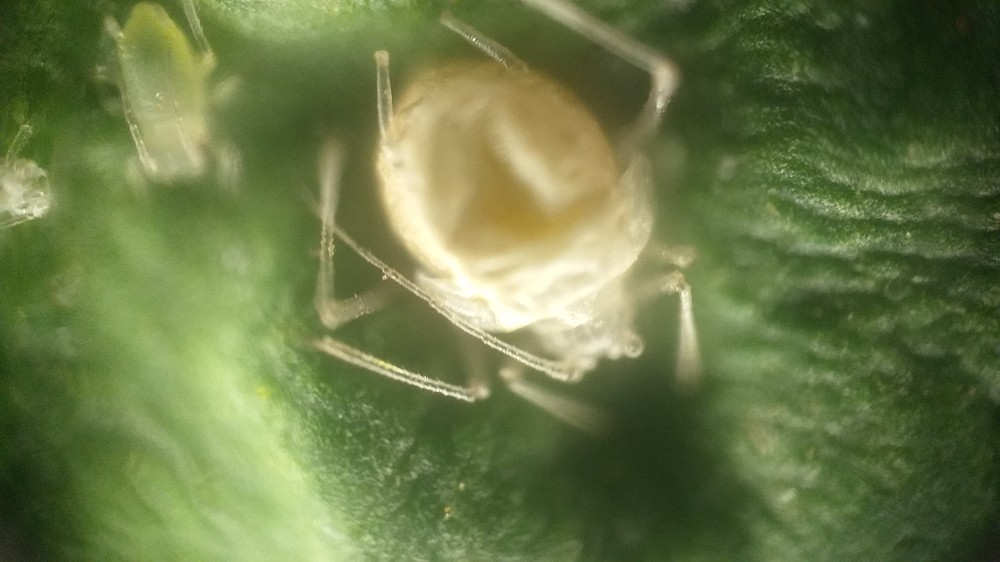Pulgon: (289, 11, 772, 462), (78, 7, 273, 219)
